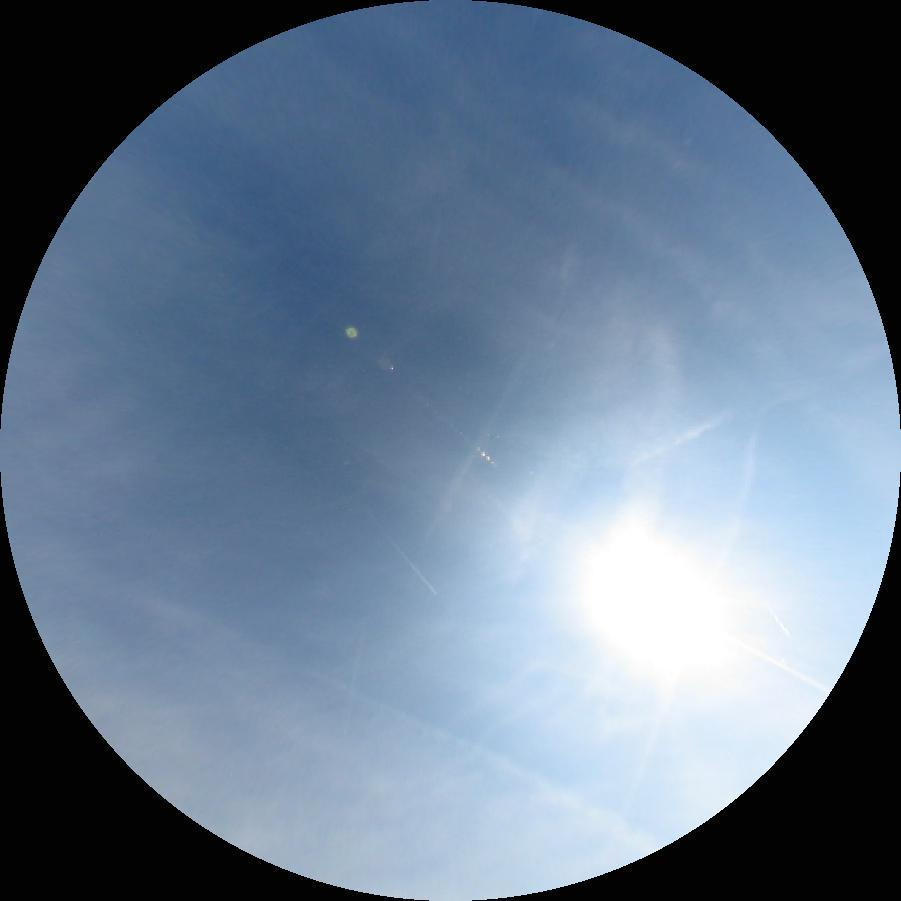contrail veryold: (619, 432, 770, 819)
contrail young: (377, 528, 438, 595), (765, 607, 790, 638)
parasite: (722, 632, 833, 694)
sun: (556, 510, 749, 704)
